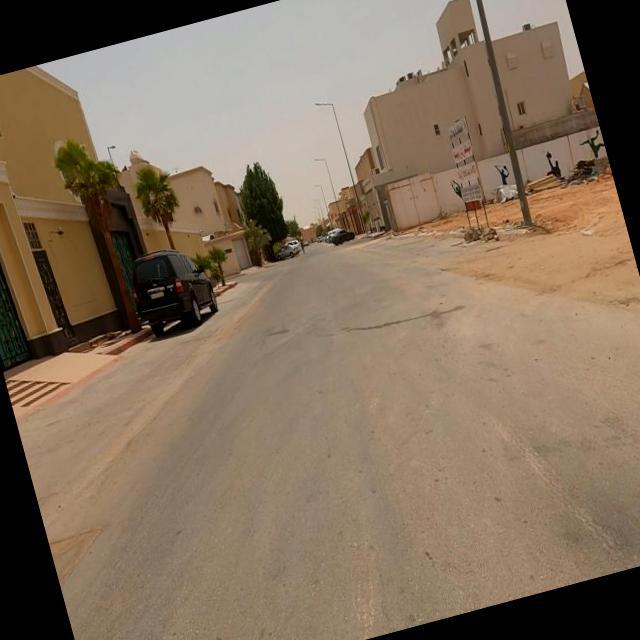debris: (400, 62, 528, 267), (473, 160, 546, 232), (553, 141, 619, 212), (553, 198, 616, 272), (528, 152, 578, 206)
